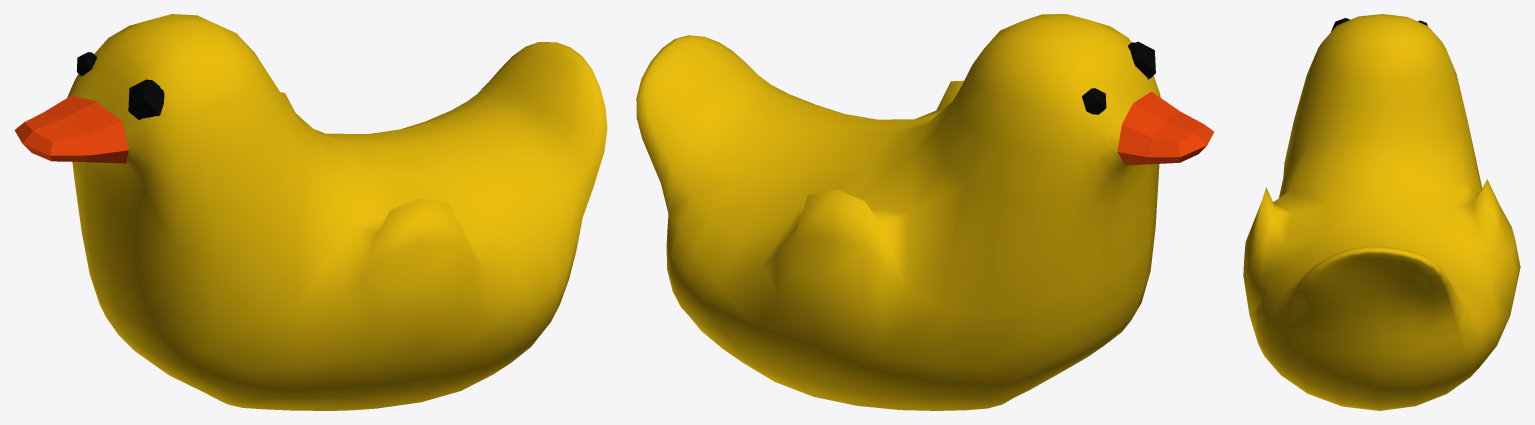
The model's file is Duck.fbx.
The picture shows the model from 3 angles, left to right: view 1: azimuth 30°, elevation 25°; view 2: azimuth 150°, elevation 25°; view 3: azimuth 270°, elevation 25°; orthographic projection. The views are drawn at different scales.
Visible parts, largest first — view 1: Duck, Duck.001, Duckeyes; view 2: Duck, Duck.001, Duckeyes; view 3: Duck.
Boxes of the visible parts, x1,y1,x2,y2 form: Duck: (67,14,607,410); Duck.001: (14,95,128,163); Duckeyes: (76,52,164,119); Duck: (636,14,1160,410); Duck.001: (1117,91,1214,165); Duckeyes: (1082,41,1155,114); Duck: (1243,14,1520,410).
Size of the model in its own units: 174 by 126 by 104.
